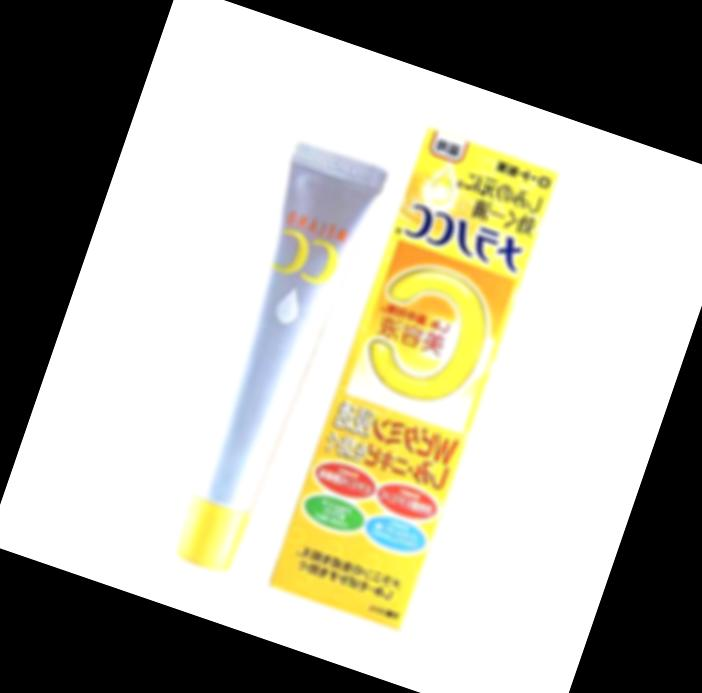cosmetic: (156, 139, 393, 583)
